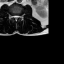CCS_normal: (15, 13, 17, 23)
LFS_normal: (19, 13, 21, 19)
LLS_normal: (17, 13, 19, 20)
RFS_normal: (11, 13, 13, 19)
RLS_normal: (13, 13, 15, 19)
